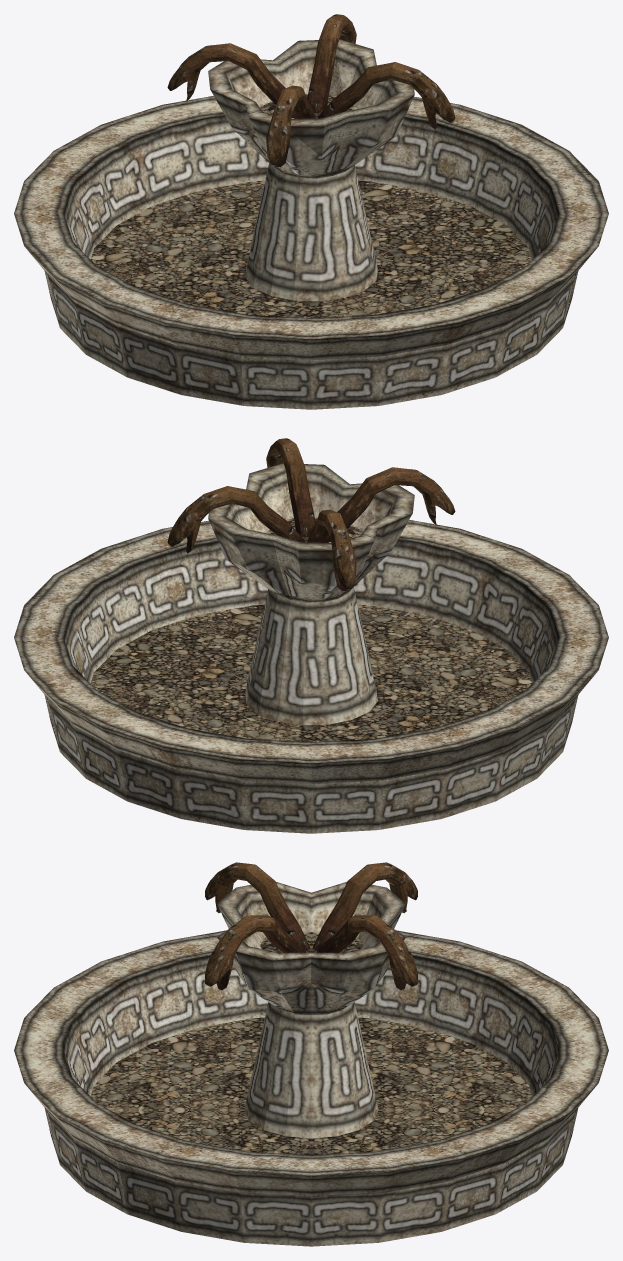
File: fountain.dae
The picture shows the model from 3 angles, top to bottom: view 1: azimuth 30°, elevation 25°; view 2: azimuth 150°, elevation 25°; view 3: azimuth 270°, elevation 25°; orthographic projection.
Visible parts, largest first — view 1: fountain; view 2: fountain; view 3: fountain.
Part boxes in pixels (x1=…): fountain: x1=14, y1=14, x2=608, y2=409; fountain: x1=14, y1=438, x2=608, y2=833; fountain: x1=14, y1=862, x2=608, y2=1246.
Size of the model in its own units: 6.93 by 6.93 by 3.15.
1 material, 1 textured.
